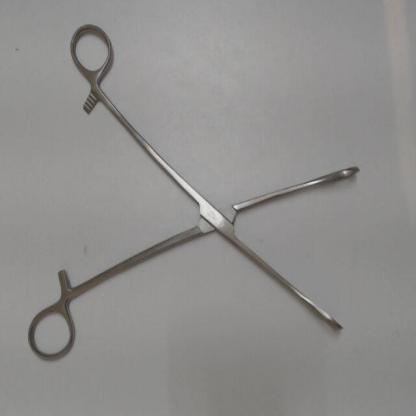Sponge Forceps: (22, 17, 366, 367)
